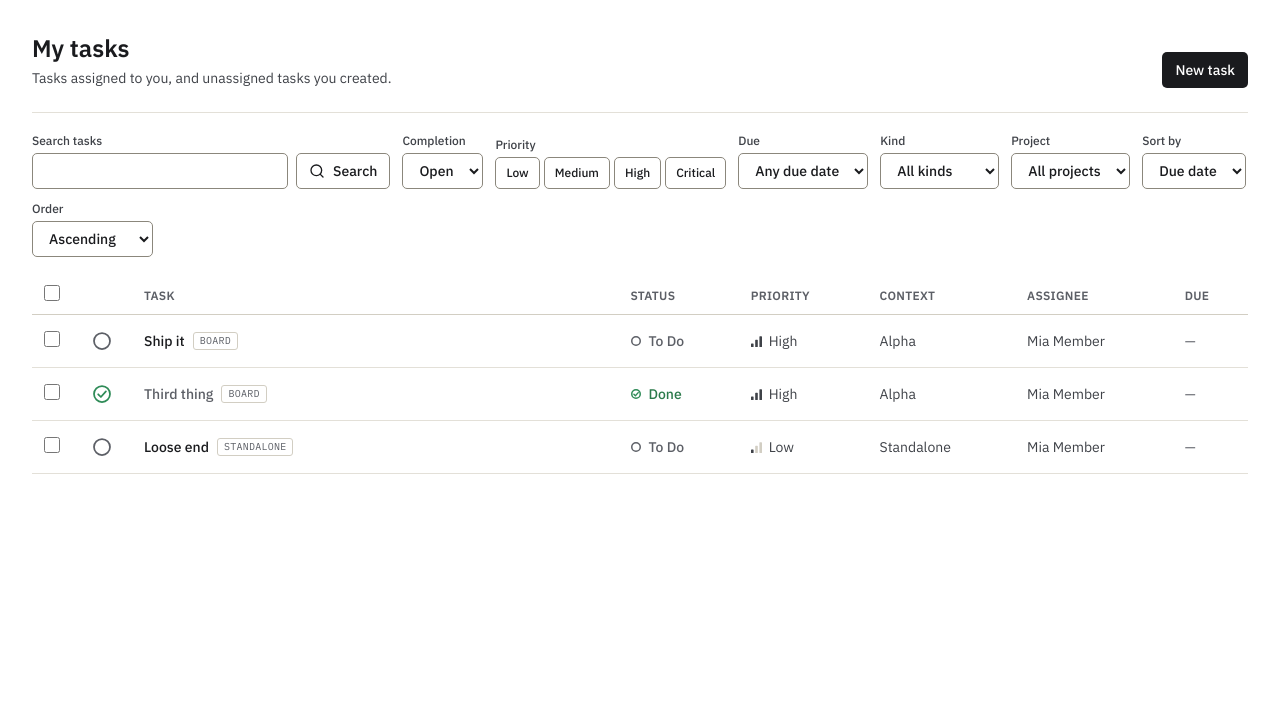
Test case: bulk Complete and Reopen (EPIC-014 §15.2) › offers each bulk action only when a selected row allows it, by server ability
Click the checkbox named "Select Loose end": [52, 444] box [44, 436, 60, 452]
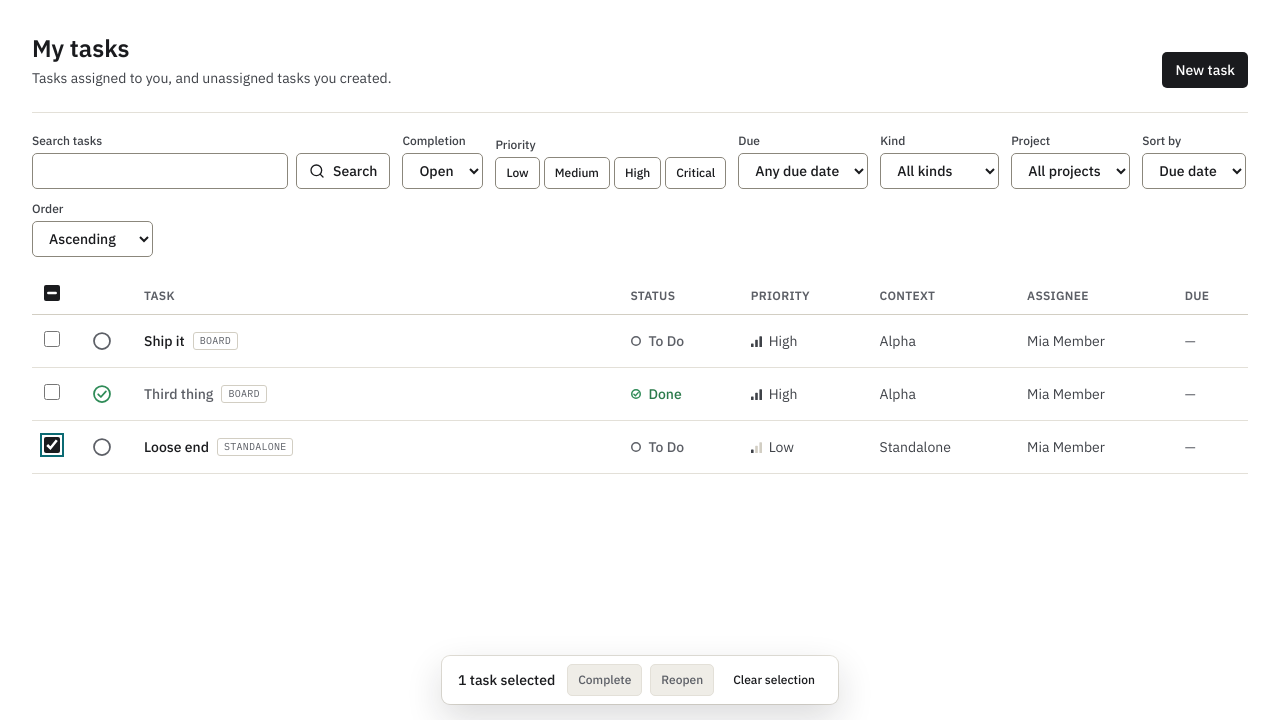
Now the button "Complete" is disabled, box [567, 664, 642, 696]
Now the button "Reopen" is disabled, box [650, 664, 714, 696]
Click the checkbox named "Select Ship it": [52, 338] box [44, 330, 60, 346]
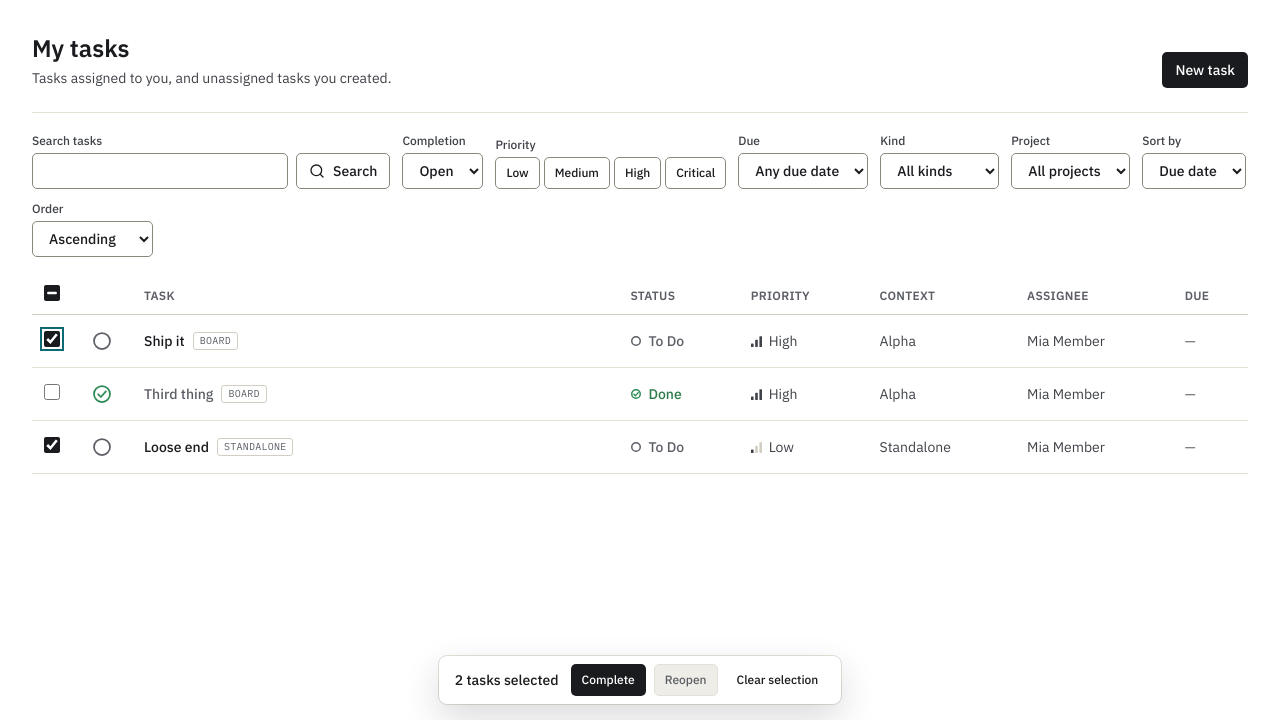
Now the button "Reopen" is disabled, box [654, 664, 718, 696]
Now the button "Complete" is enabled, box [571, 664, 646, 696]
Click the checkbox named "Select Third thing": [52, 392] box [44, 384, 60, 400]
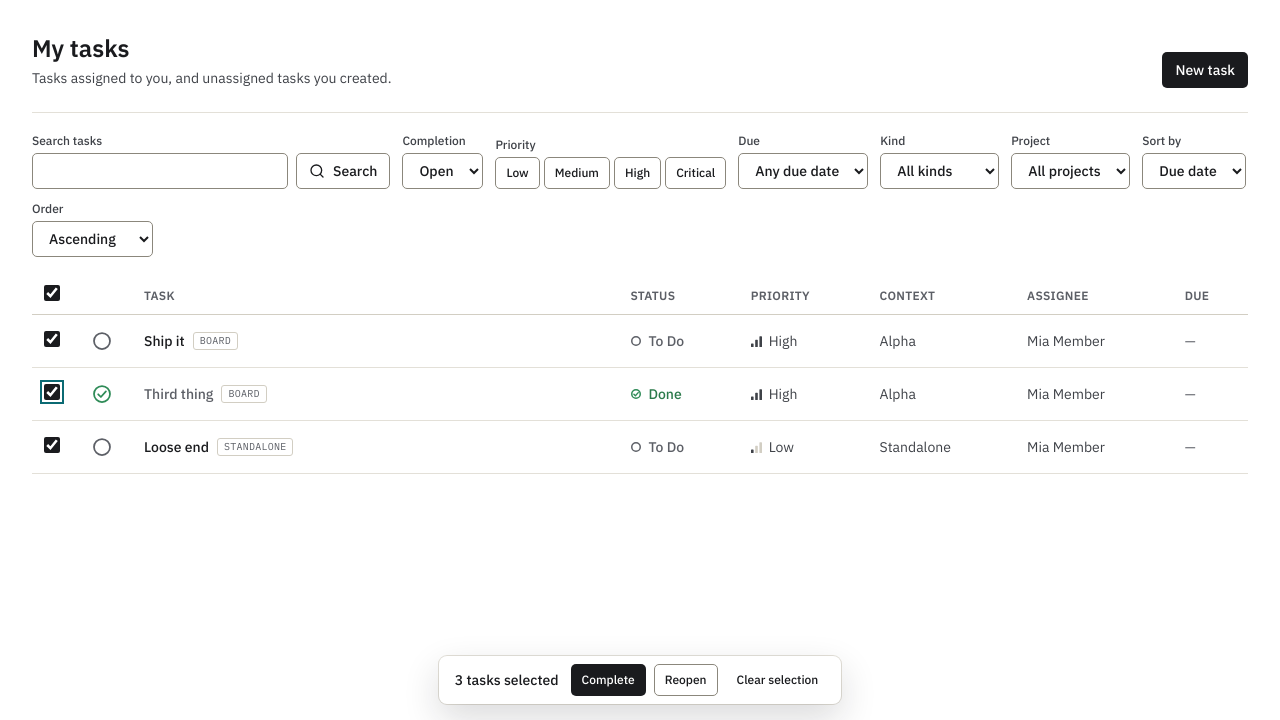
Now the button "Complete" is enabled, box [571, 664, 646, 696]
Now the button "Reopen" is enabled, box [654, 664, 718, 696]
